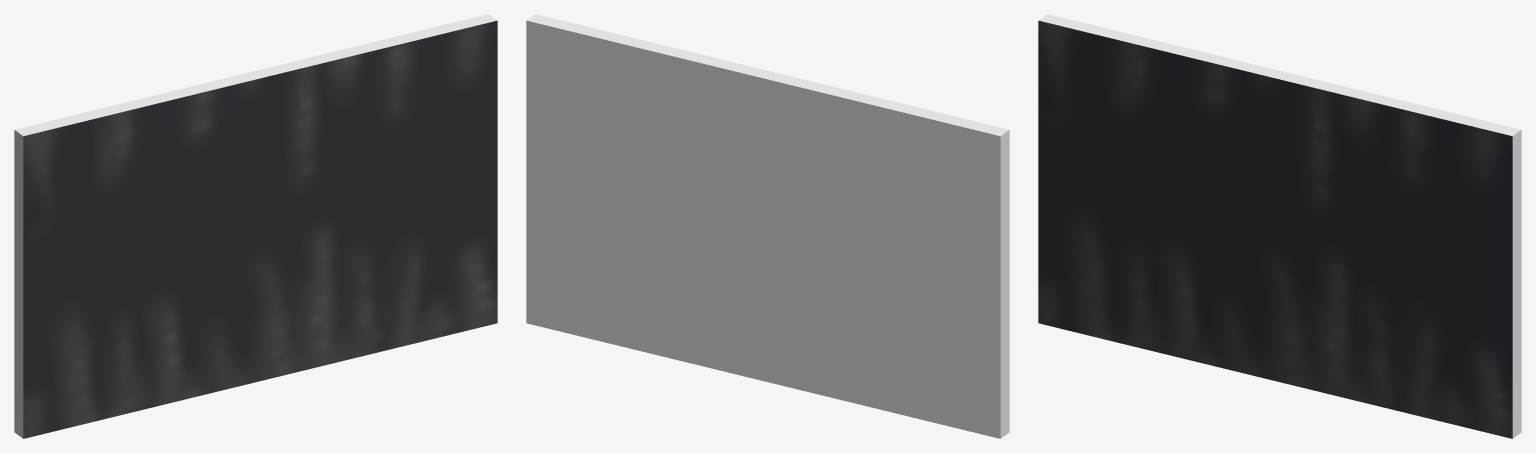
File: Screen.fbx
The picture shows the model from 3 angles, left to right: view 1: azimuth 30°, elevation 25°; view 2: azimuth 150°, elevation 25°; view 3: azimuth 330°, elevation 25°; orthographic projection.
Visible parts, largest first — view 1: pCube1; view 2: pCube1; view 3: pCube1.
Part boxes in pixels (x1,y1,x2,y2): pCube1: (14,14,497,438); pCube1: (526,14,1009,438); pCube1: (1038,14,1521,438).
Bounding box in the file's own units: 30.44 × 18.57 × 1.
1 material, 1 textured.
